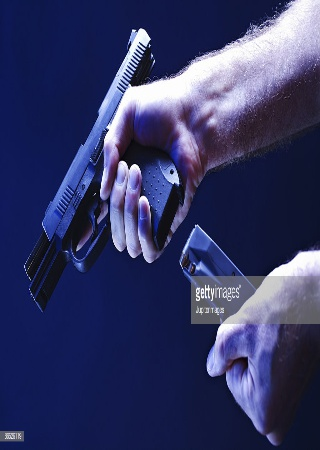handgun: (23, 19, 181, 313)
